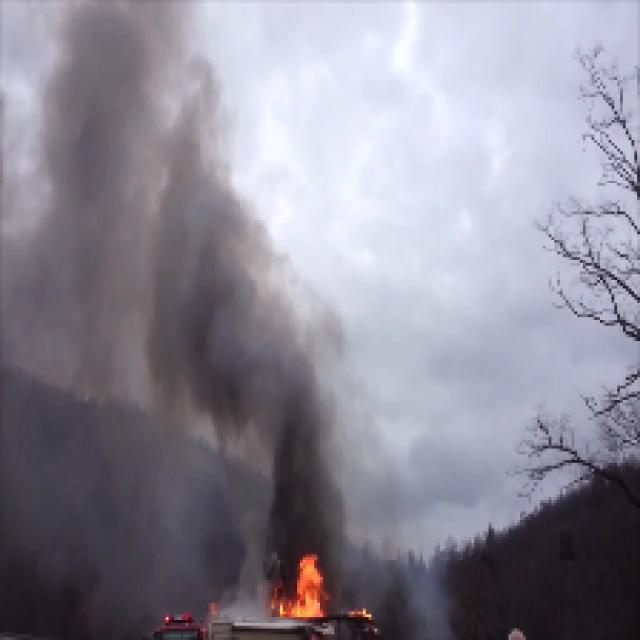fire: (268, 551, 330, 623)
smoke: (3, 4, 209, 578), (216, 192, 360, 538)
